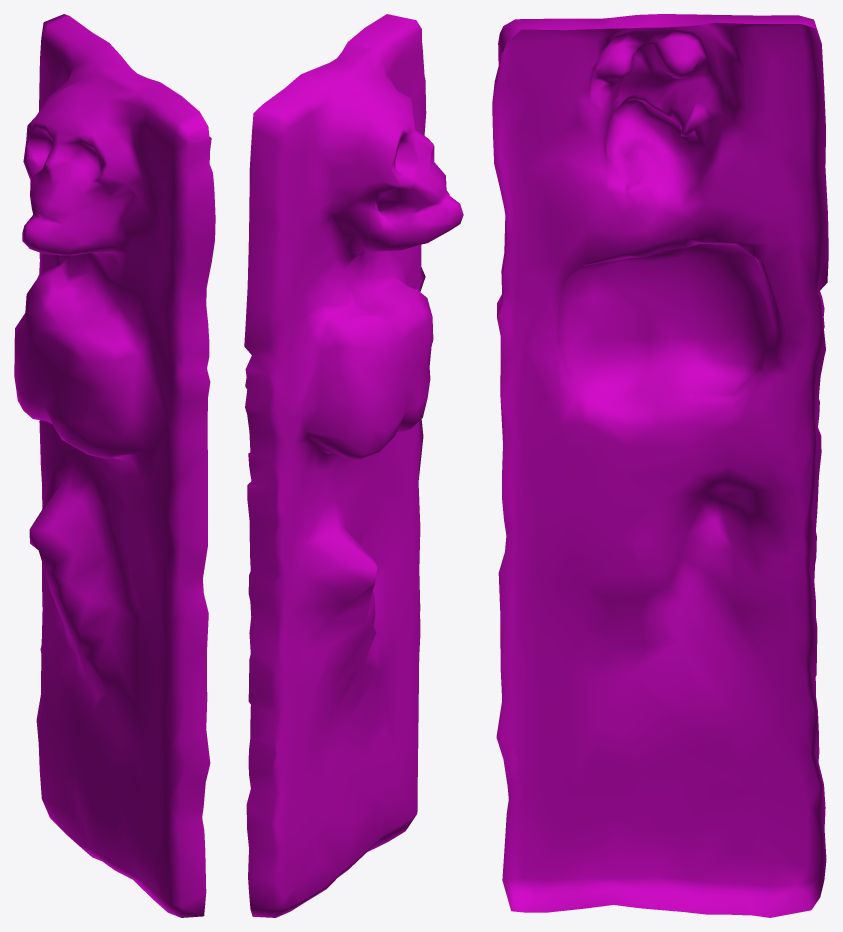
File: Door_Statue.fbx
3 renders of one model, left to right at view 1: azimuth 30°, elevation 25°; view 2: azimuth 150°, elevation 25°; view 3: azimuth 270°, elevation 25°, orthographic. The views are drawn at different scales.
Parts seen in each view (by area): view 1: Door_Statue; view 2: Door_Statue; view 3: Door_Statue.
Boxes of the visible parts, x1=… form: Door_Statue: x1=14, y1=14, x2=215, y2=917; Door_Statue: x1=244, y1=14, x2=463, y2=917; Door_Statue: x1=492, y1=14, x2=828, y2=917.
Bounding box in the file's own units: 34.12 × 206 × 70.35.
